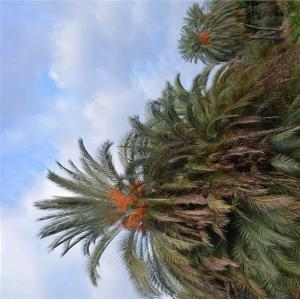palm tree: (32, 0, 300, 299)
